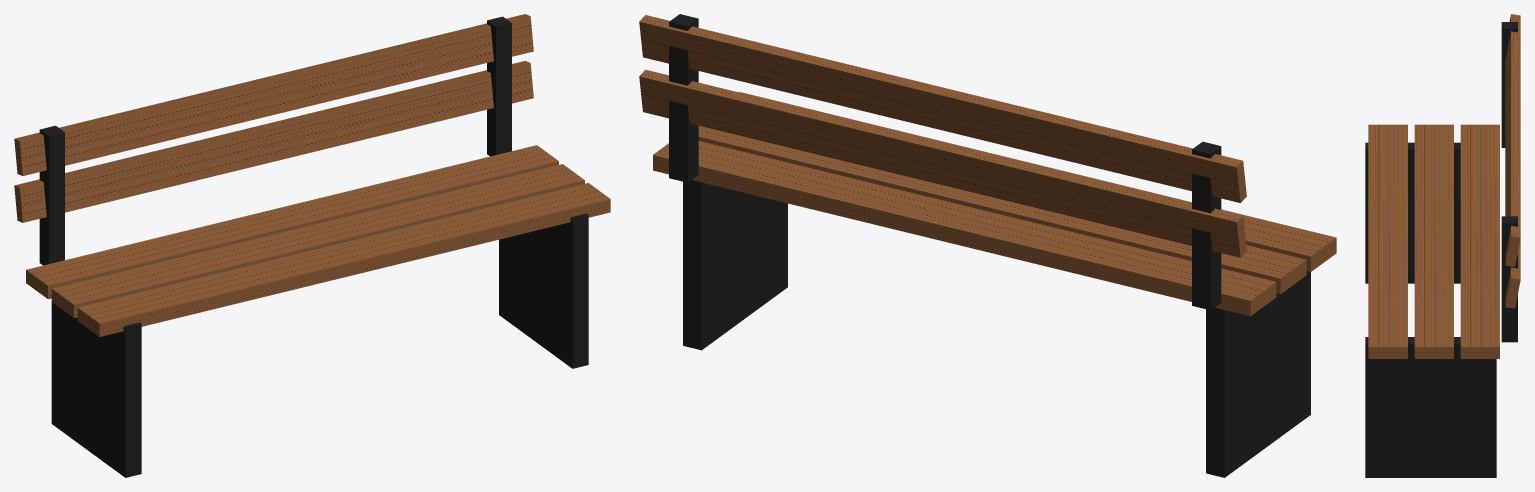
The model's file is bench.glb.
3 views of the same model, side by side, from view 1: azimuth 30°, elevation 25°; view 2: azimuth 150°, elevation 25°; view 3: azimuth 270°, elevation 25° (orthographic). The views are drawn at different scales.
Parts seen in each view (by area): view 1: bench; view 2: bench; view 3: bench.
Boxes of the visible parts, box(x1,y1,x2,y2) form: bench: box(14, 14, 610, 477); bench: box(639, 14, 1336, 477); bench: box(1365, 14, 1520, 477).
Size of the model in its own units: 1.6 by 0.855 by 0.4735.
2 materials, 1 textured.
